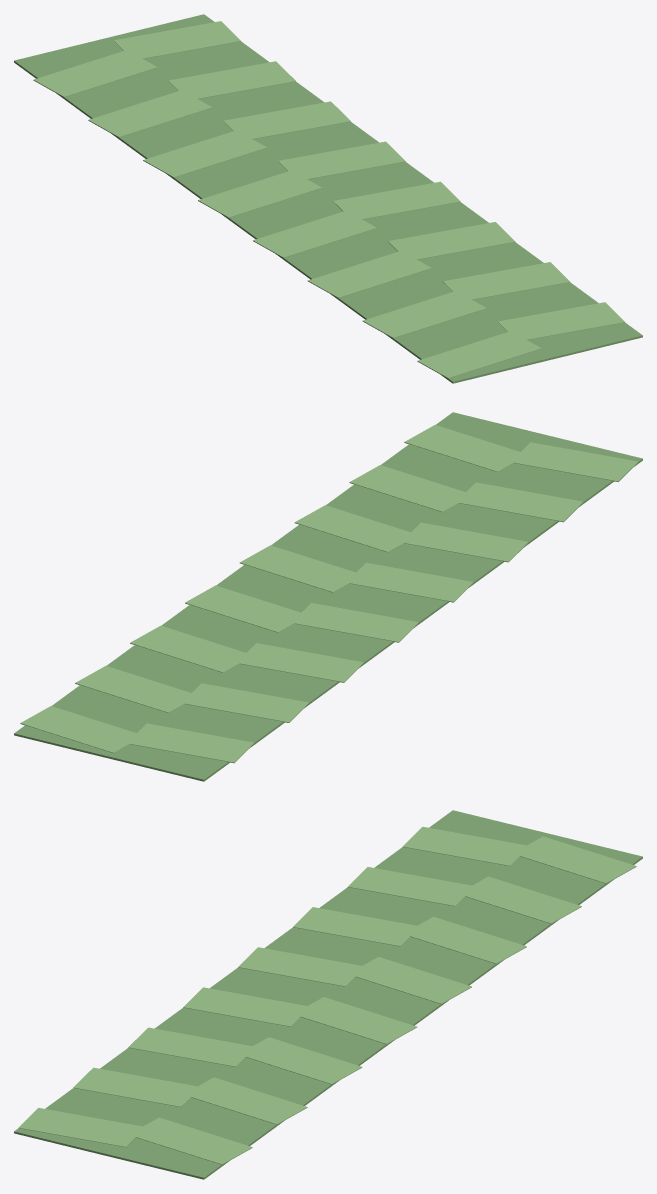
The model's file is racecourse-and-parade-ring-mown-chevron-strip-4b0f900f__38649.glb.
The picture shows the model from 3 angles, top to bottom: view 1: azimuth 30°, elevation 25°; view 2: azimuth 150°, elevation 25°; view 3: azimuth 330°, elevation 25°; orthographic projection.
Parts seen in each view (by area): view 1: mown-chevron-strip; view 2: mown-chevron-strip; view 3: mown-chevron-strip.
Part boxes in pixels (<box>): mown-chevron-strip: <box>14,14,642,383</box>; mown-chevron-strip: <box>14,412,642,781</box>; mown-chevron-strip: <box>14,810,642,1179</box>.
Size of the model in its own units: 3.17 by 0.0354 by 12.
